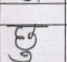u_matra: (7, 51, 36, 62)
